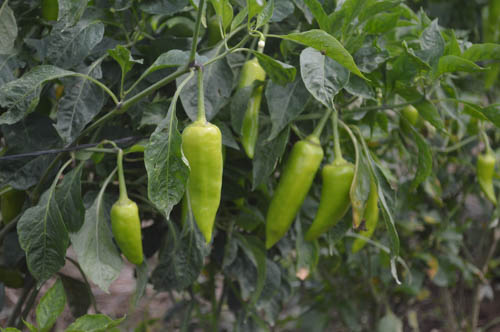ChiliPepper: (257, 141, 325, 255), (181, 125, 225, 241), (309, 162, 356, 253), (234, 62, 266, 157), (107, 200, 142, 266), (473, 152, 494, 202)
